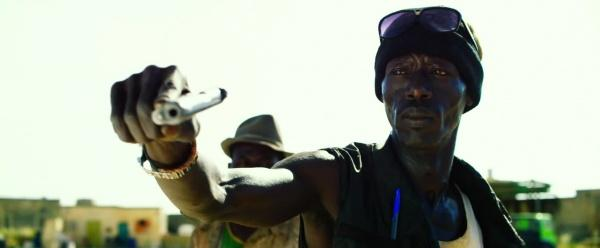Gun: (151, 86, 226, 127)
